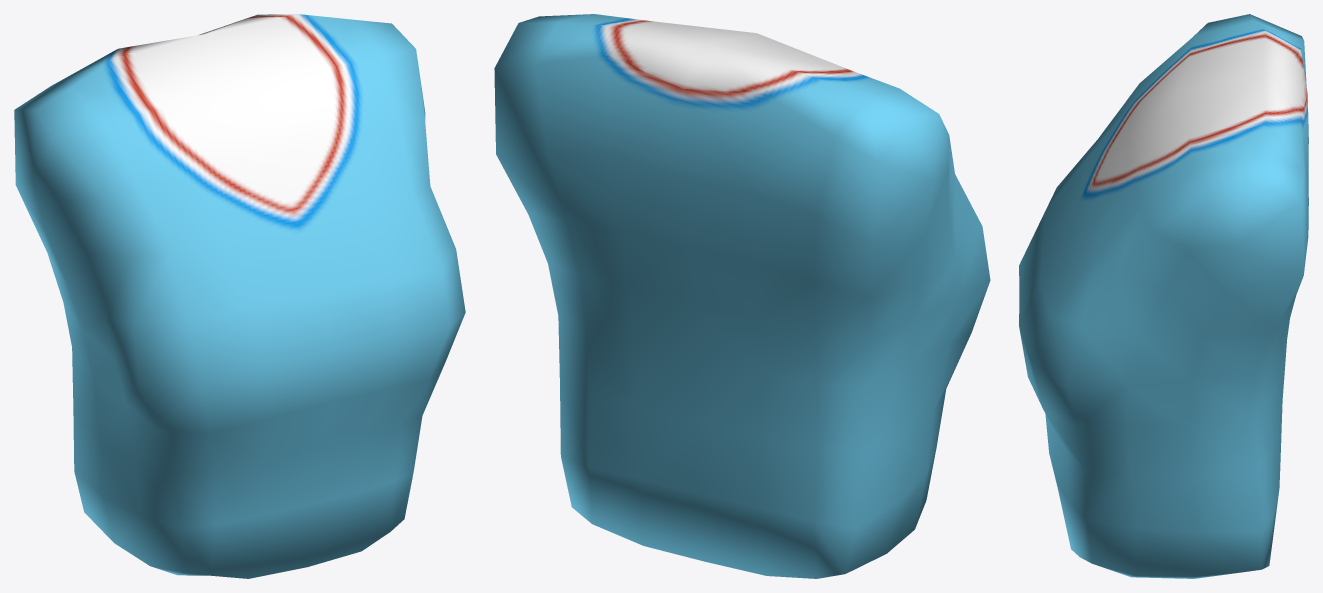
Rendered from torso.glb.
3 renders of one model, left to right at view 1: azimuth 30°, elevation 25°; view 2: azimuth 150°, elevation 25°; view 3: azimuth 270°, elevation 25°, orthographic. The views are drawn at different scales.
Visible parts, largest first — view 1: FemaleBody_low; view 2: FemaleBody_low; view 3: FemaleBody_low.
Boxes of the visible parts, x1=… form: FemaleBody_low: x1=14, y1=14, x2=465, y2=578; FemaleBody_low: x1=494, y1=14, x2=990, y2=578; FemaleBody_low: x1=1019, y1=14, x2=1308, y2=578.
Bounding box in the file's own units: 0.2572 × 0.3059 × 0.1733.
Materials: 1 (1 with a texture image).
